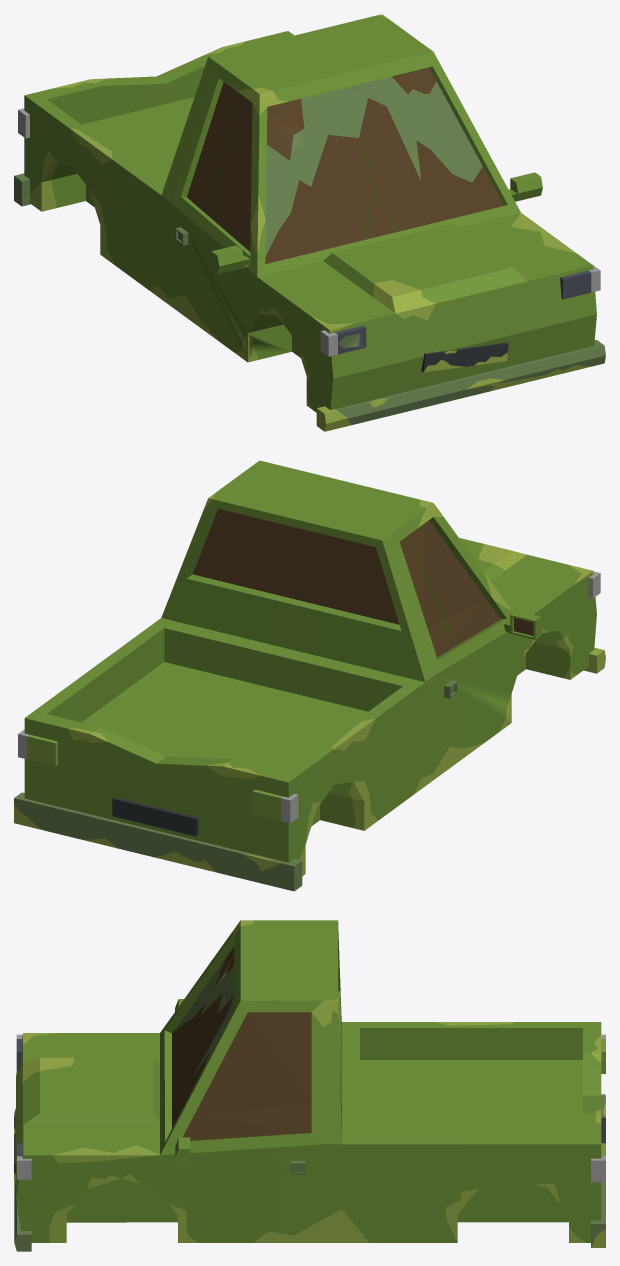
Rendered from OldCar_03.fbx.
3 renders of one model, top to bottom at view 1: azimuth 30°, elevation 25°; view 2: azimuth 150°, elevation 25°; view 3: azimuth 270°, elevation 25°, orthographic. The views are drawn at different scales.
Parts seen in each view (by area): view 1: OldCar_03; view 2: OldCar_03; view 3: OldCar_03.
Boxes of the visible parts, x1=… form: OldCar_03: x1=14, y1=14, x2=605, y2=431; OldCar_03: x1=14, y1=460, x2=605, y2=891; OldCar_03: x1=14, y1=920, x2=605, y2=1251.
Bounding box in the file's own units: 1.96 × 1.38 × 3.28.
